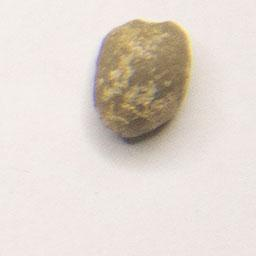peaberry: (90, 16, 195, 143)
